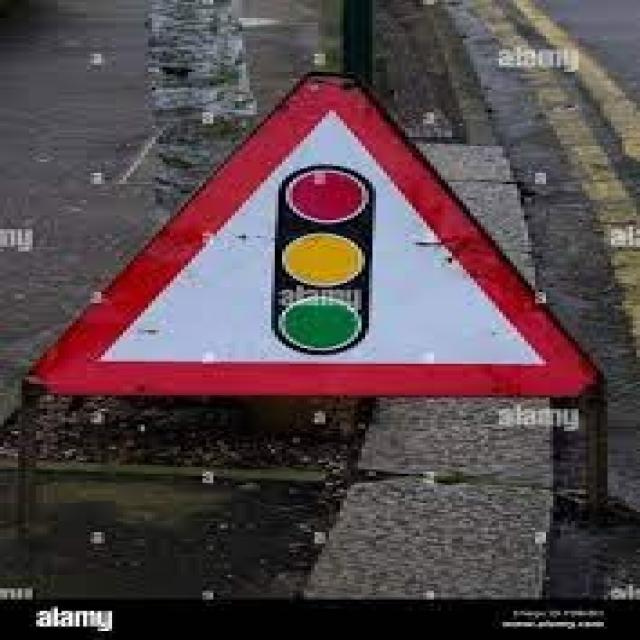light_traffic: (33, 65, 599, 413)
